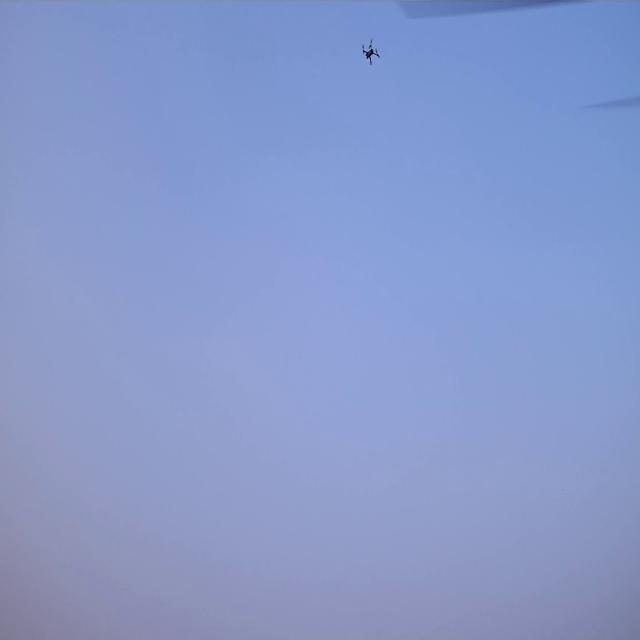UAV: (362, 41, 378, 64)
